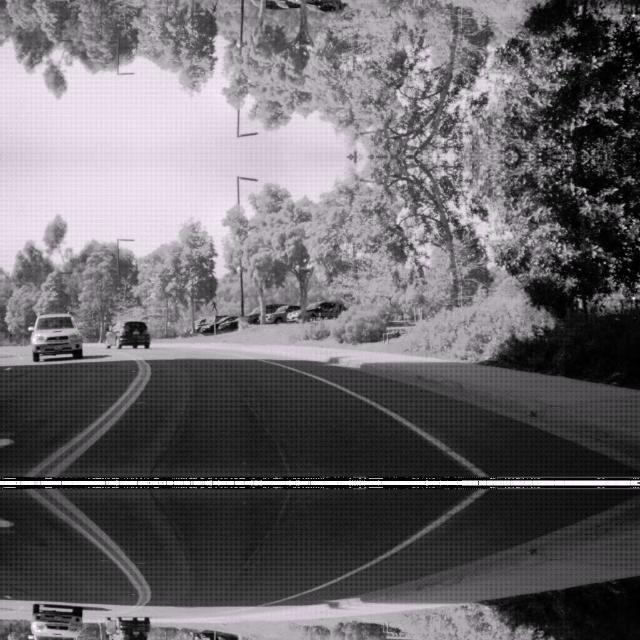pedestrianCrossing: (205, 294, 223, 314), (205, 0, 224, 18)
